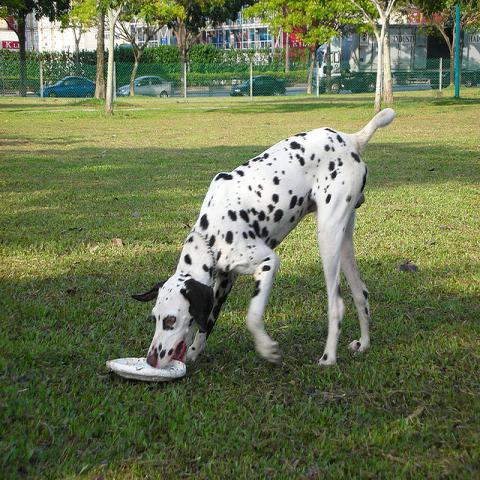car: (320, 68, 376, 95), (42, 75, 96, 98), (117, 76, 173, 98), (230, 76, 285, 96), (430, 69, 478, 89)
truck: (306, 25, 451, 94)
